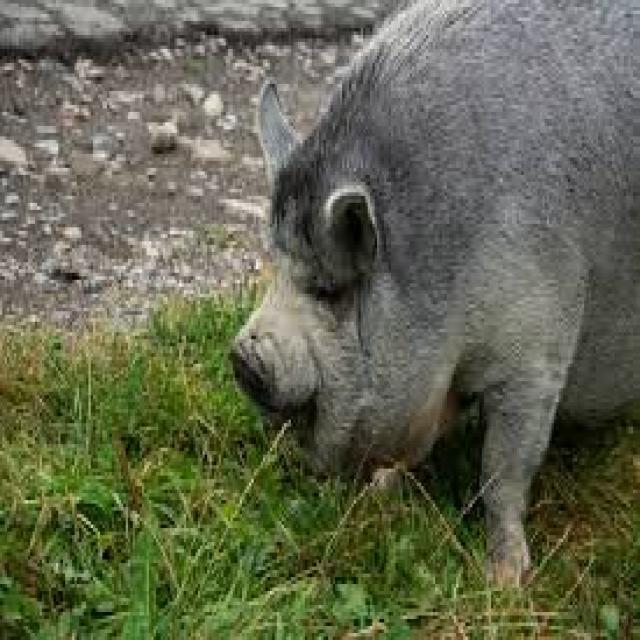Pig: (228, 0, 640, 587)
